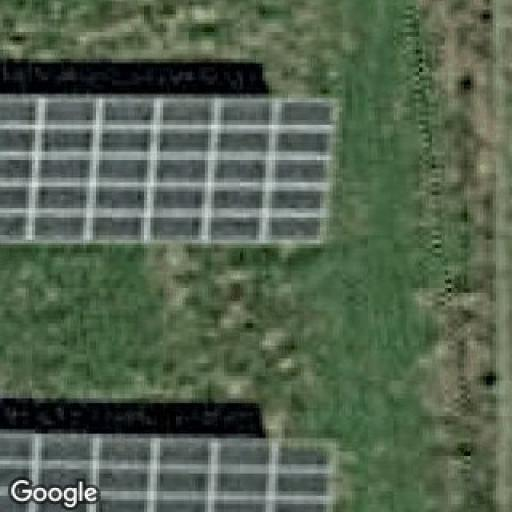solar-panel: (0, 96, 339, 251), (5, 429, 339, 512)
